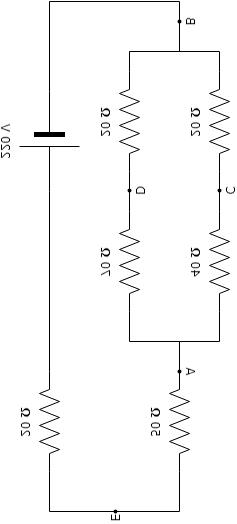resistor: (115, 75, 154, 158), (115, 219, 152, 302), (198, 78, 232, 167), (163, 384, 204, 453), (37, 374, 69, 458), (204, 222, 235, 299)
